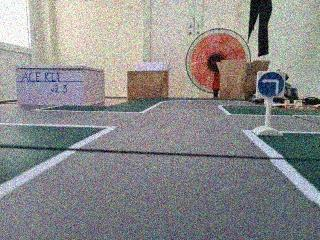left: (250, 66, 289, 103)
